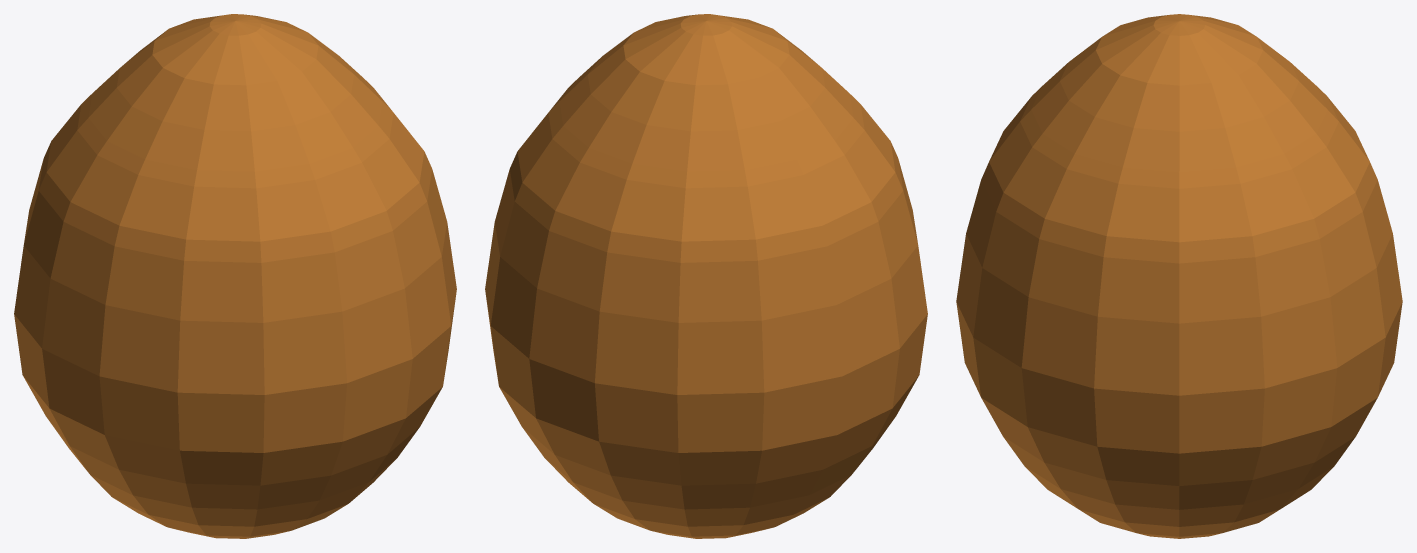
The model's file is egg.fbx.
The picture shows the model from 3 angles, left to right: view 1: azimuth 30°, elevation 25°; view 2: azimuth 150°, elevation 25°; view 3: azimuth 270°, elevation 25°; orthographic projection.
Visible parts, largest first — view 1: egg; view 2: egg; view 3: egg.
Boxes of the visible parts, box(x1,y1,x2,y2) form: egg: box(14, 14, 456, 538); egg: box(485, 14, 927, 538); egg: box(956, 14, 1402, 538).
Bounding box in the file's own units: 43.88 × 54.22 × 43.88.
